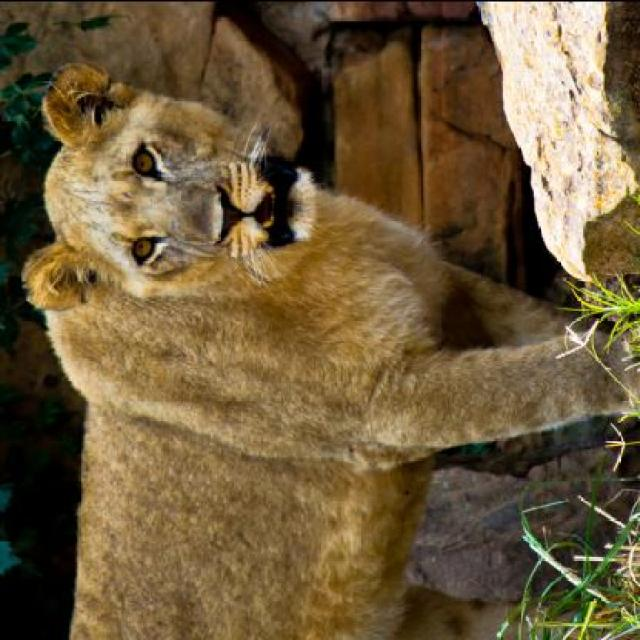Lion: (12, 52, 638, 638)
